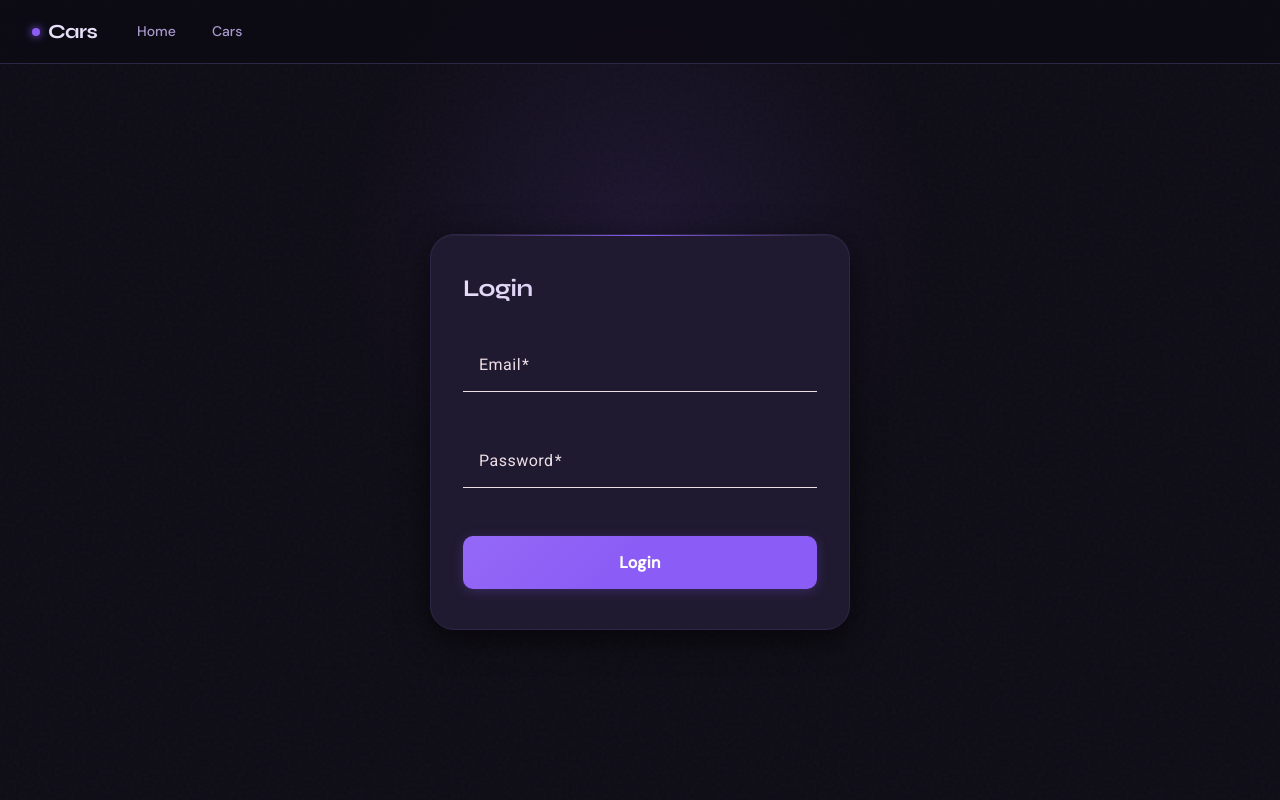
it: Login › should show error notification on failed login
The image size is (1280, 800).
Type "invalid-email" into the field named "email" at (640, 372), box 479,360 -> 801,384
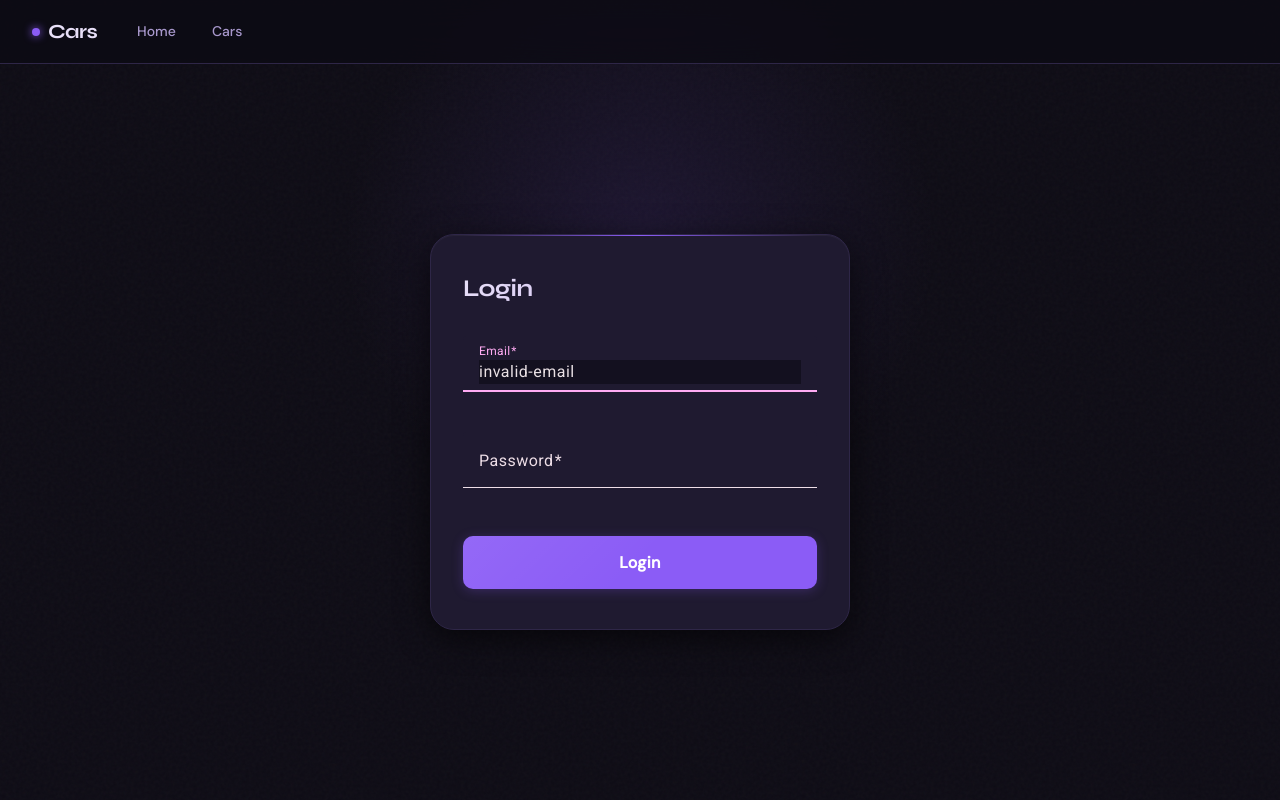
Type "wrong-password" into the password field named "password" at (640, 468), box 479,456 -> 801,480
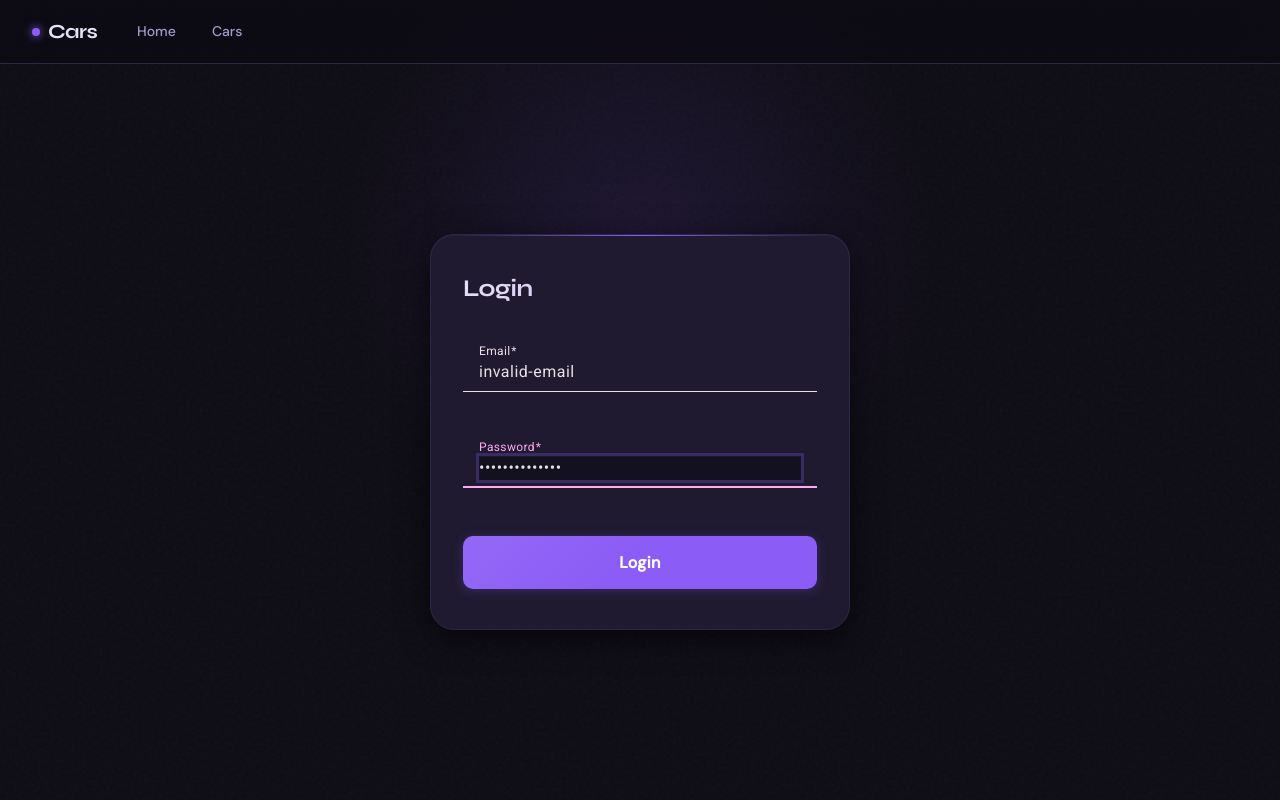
Submit the form, box 463,336 -> 817,589
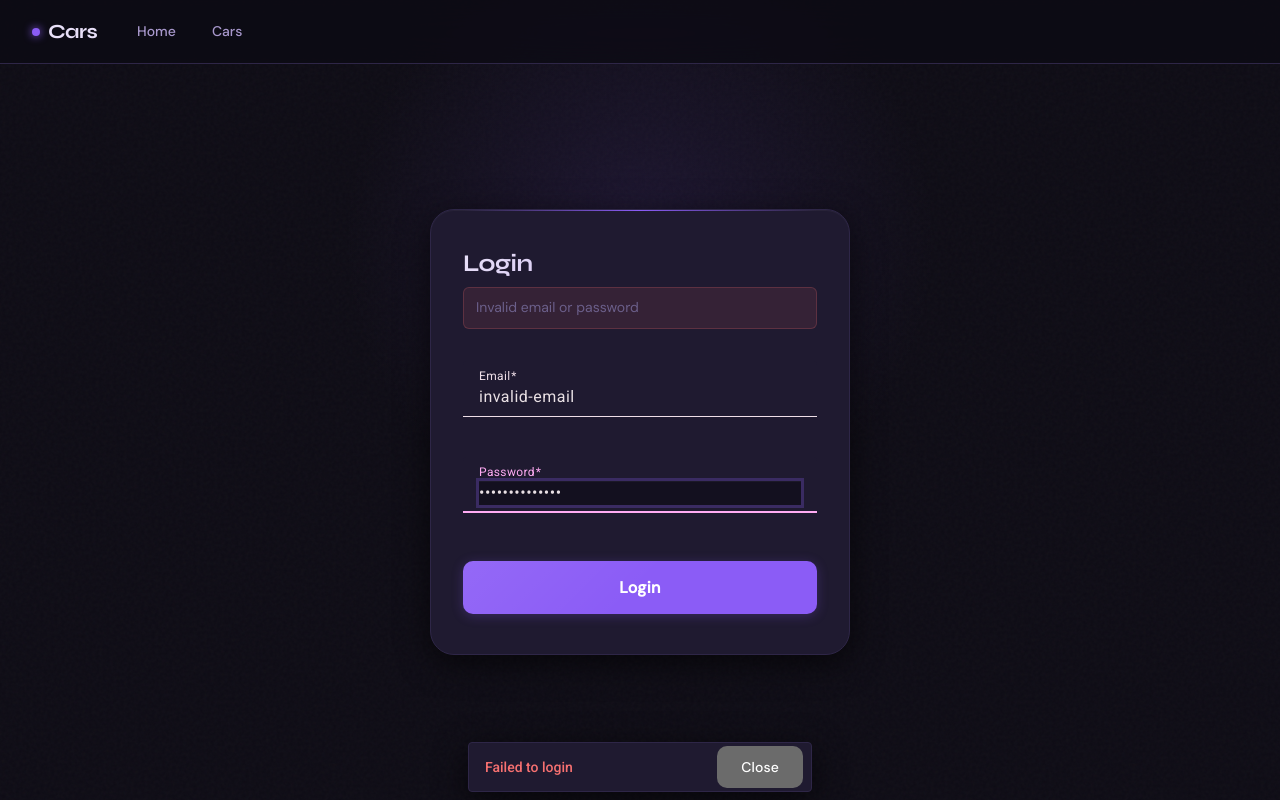
Check: the text "Failed to login" is shown, box 485,759 -> 573,775
Check: the text with class "error" reads "Invalid email or password", box 476,298 -> 639,316
